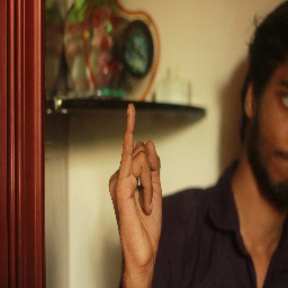I: (104, 102, 167, 252)
